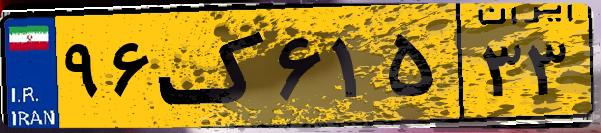1: (330, 28, 385, 110)
3: (475, 38, 525, 113), (525, 38, 570, 115)
5: (385, 28, 445, 110)
6: (270, 28, 330, 110), (110, 28, 158, 98)
9: (57, 26, 110, 100)
ک: (158, 12, 270, 120)
